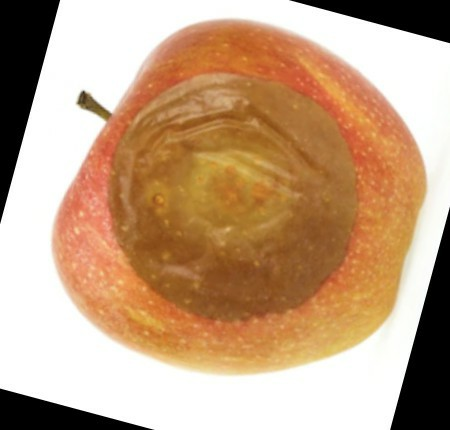rotten_apple: (51, 18, 426, 375)
